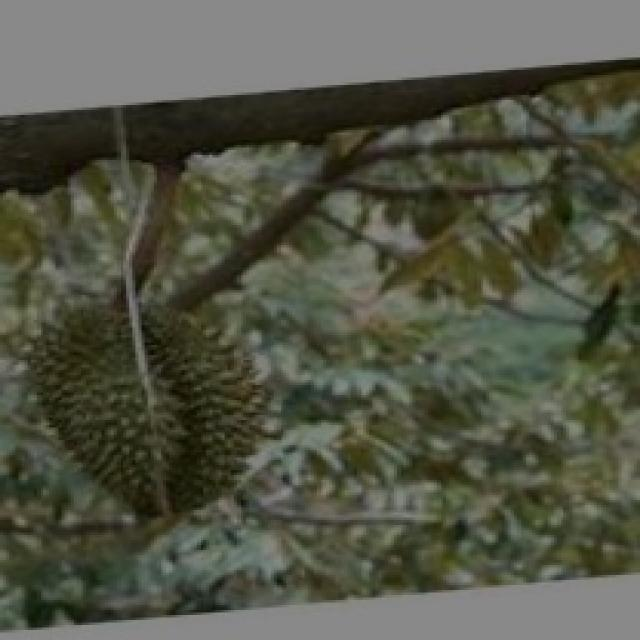fruit: (3, 280, 305, 545)
